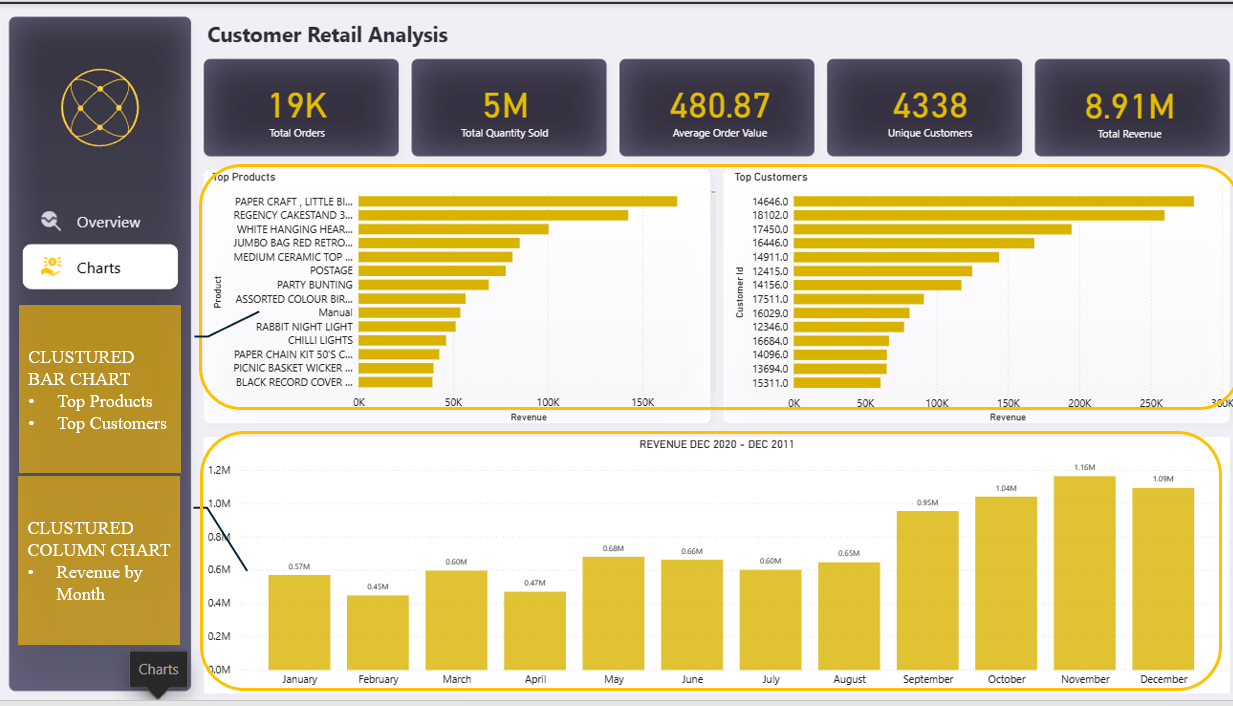

The dashboard page shown, as its layout file describes it:
{"tool":"powerbi","page":{"name":"Charts","canvas":[1920,1080],"ordinal":1},"visuals":[{"type":"group","id":"g1","title":"Buttons Menu","box":[40,300,240,420.1],"z":0},{"type":"textbox","title":"Title","box":[320.9,19.7,618.1,65.2],"z":3000},{"type":"card","fields":{"Values":["_Measures.Total Orders"]},"box":[310,85.6,308.9,150],"z":5000},{"type":"actionButton","title":"Revenue_active","box":[40,370.1,239.9,70.1],"z":5750,"group":"g1"},{"type":"card","fields":{"Values":["_Measures.Total Quantity Sold"]},"box":[630,85,308.3,150],"z":6000},{"type":"actionButton","title":"Overview","box":[40,300,240,70],"z":6000,"group":"g1"},{"type":"card","fields":{"Values":["_Measures.Average Order Value"]},"box":[960,85,308.3,150],"z":7000},{"type":"card","fields":{"Values":["_Measures.Unique Customers"]},"box":[1284,84,308,150],"z":8000},{"type":"card","fields":{"Values":["_Measures.Total Revenue"]},"box":[1592,86,308,150],"z":9000},{"type":"clusteredBarChart","title":"Top Products","fields":{"Category":["public_retail.description"],"Y":["Sum(public_retail.revenue)"]},"box":[328,256,786,394],"z":10000},{"type":"clusteredBarChart","title":"Top Customers","fields":{"Category":["public_retail.customerid"],"Y":["Sum(public_retail.revenue)"]},"box":[1132.5,255,787.5,395],"z":11000},{"type":"clusteredColumnChart","title":"REVENUE DEC 2020 - DEC 2011","fields":{"Category":["public_retail.invoicedate.Variation.Date Hierarchy.Month"],"Y":["Sum(public_retail.revenue)"]},"box":[320,667.5,1580,395],"z":12000}]}

Visuals, with their boxes on the page's 1920x1080 design canvas (x1, y1, x2, y2). These are canvas units, not pixel positions in the 1233x706 screenshot, which may show the page scaled, cropped or inside an application window:
"Buttons Menu" group: 40 300 280 720
"Title" textbox: 321 20 939 85
card - _Measures.Total Orders: 310 86 619 236
"Revenue_active" actionButton: 40 370 280 440
card - _Measures.Total Quantity Sold: 630 85 938 235
"Overview" actionButton: 40 300 280 370
card - _Measures.Average Order Value: 960 85 1268 235
card - _Measures.Unique Customers: 1284 84 1592 234
card - _Measures.Total Revenue: 1592 86 1900 236
"Top Products" clusteredBarChart: 328 256 1114 650
"Top Customers" clusteredBarChart: 1132 255 1920 650
"REVENUE DEC 2020 - DEC 2011" clusteredColumnChart: 320 668 1900 1062
